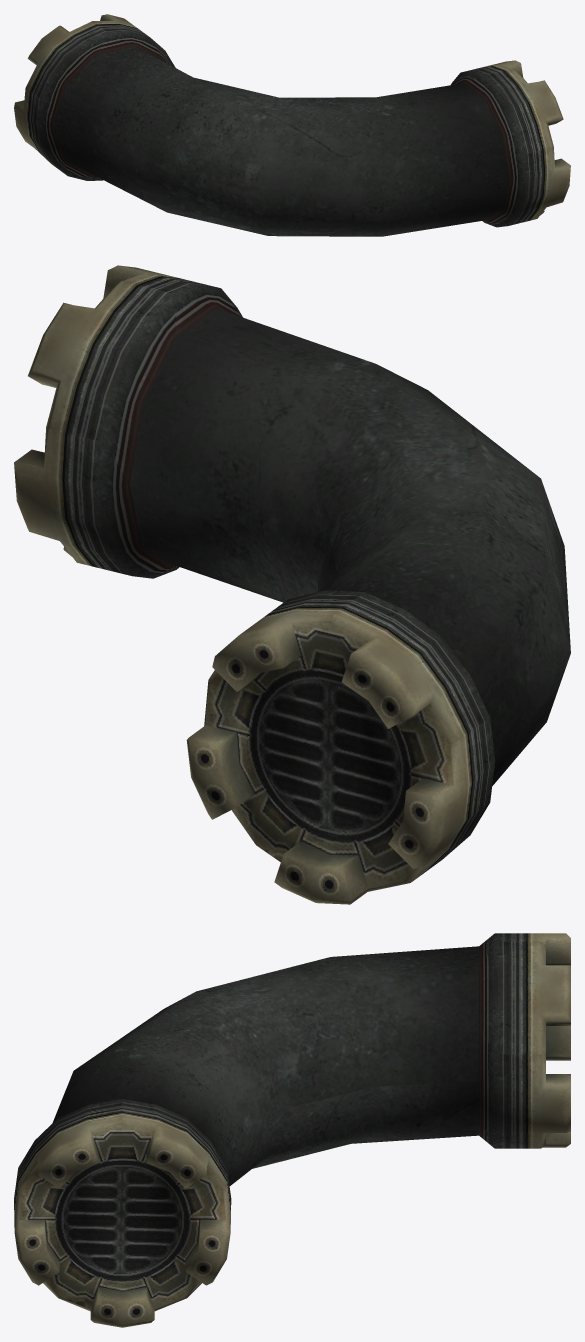
Rendered from tech_bend_long.dae.
The picture shows the model from 3 angles, top to bottom: view 1: azimuth 30°, elevation 25°; view 2: azimuth 150°, elevation 25°; view 3: azimuth 270°, elevation 25°; orthographic projection. The views are drawn at different scales.
Parts seen in each view (by area): view 1: polySurface791; view 2: polySurface791; view 3: polySurface791.
Boxes of the visible parts, left/top/right/bottom form: polySurface791: left=14, top=14, right=570, bottom=236; polySurface791: left=14, top=265, right=570, bottom=904; polySurface791: left=14, top=933, right=570, bottom=1327.
Size of the model in its own units: 1.28 by 0.5035 by 1.28.
1 material, 1 textured.
